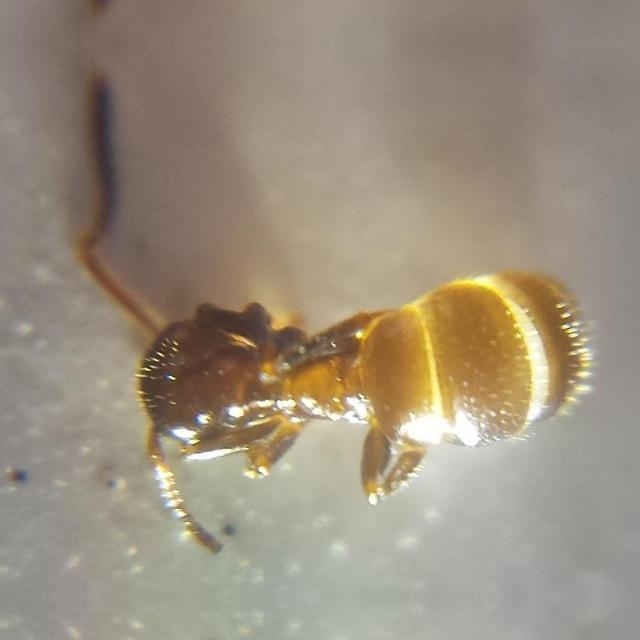Lasius: (140, 229, 640, 551)
